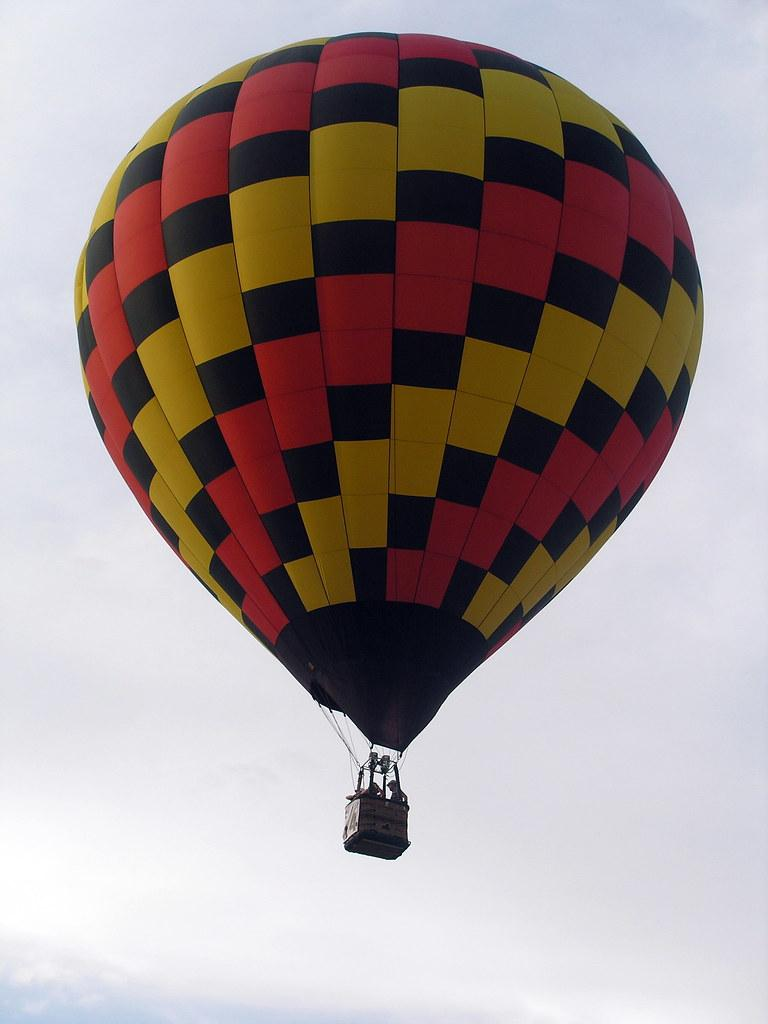balloon: (73, 30, 706, 860)
